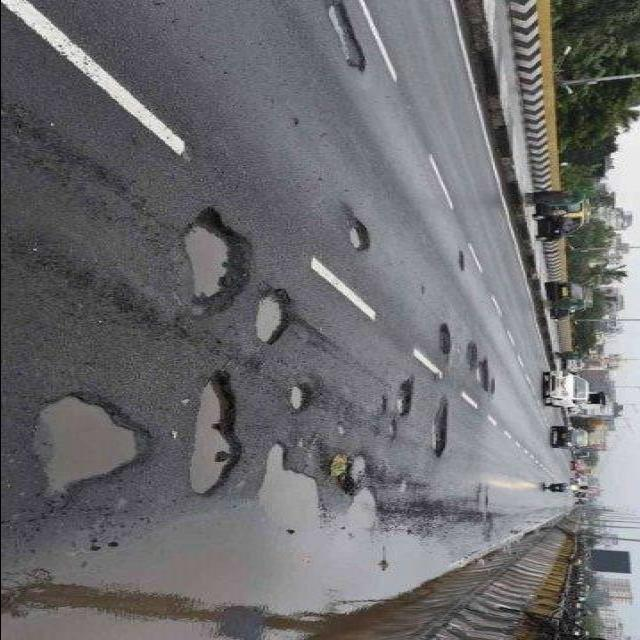jalan retak: (0, 87, 181, 355), (402, 484, 500, 518)
lubang: (0, 519, 528, 640), (20, 383, 158, 497), (242, 439, 334, 534), (182, 366, 244, 497), (184, 203, 252, 307), (323, 486, 391, 552), (319, 0, 367, 73), (255, 288, 296, 345), (429, 398, 452, 456), (392, 376, 417, 418), (289, 378, 314, 411), (348, 454, 374, 481), (434, 323, 456, 354), (384, 414, 404, 446), (328, 417, 354, 441), (352, 222, 374, 250), (466, 339, 482, 369), (474, 360, 492, 385), (372, 394, 394, 414), (488, 378, 498, 395), (458, 253, 467, 270)
